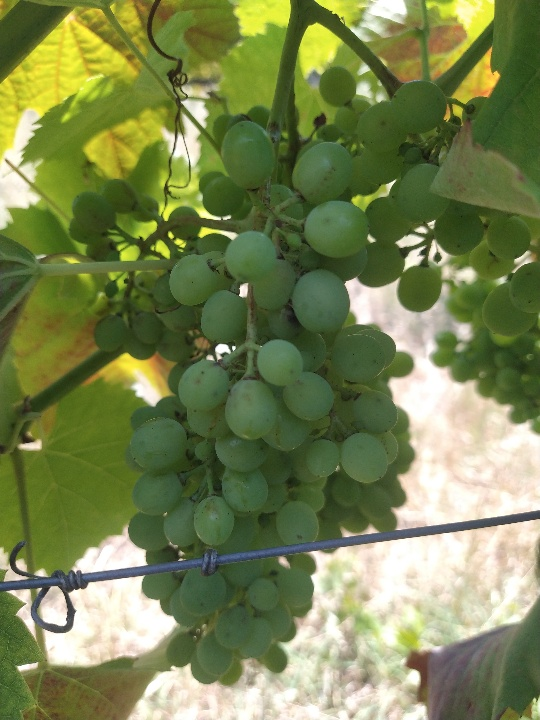grape: (62, 60, 533, 693)
